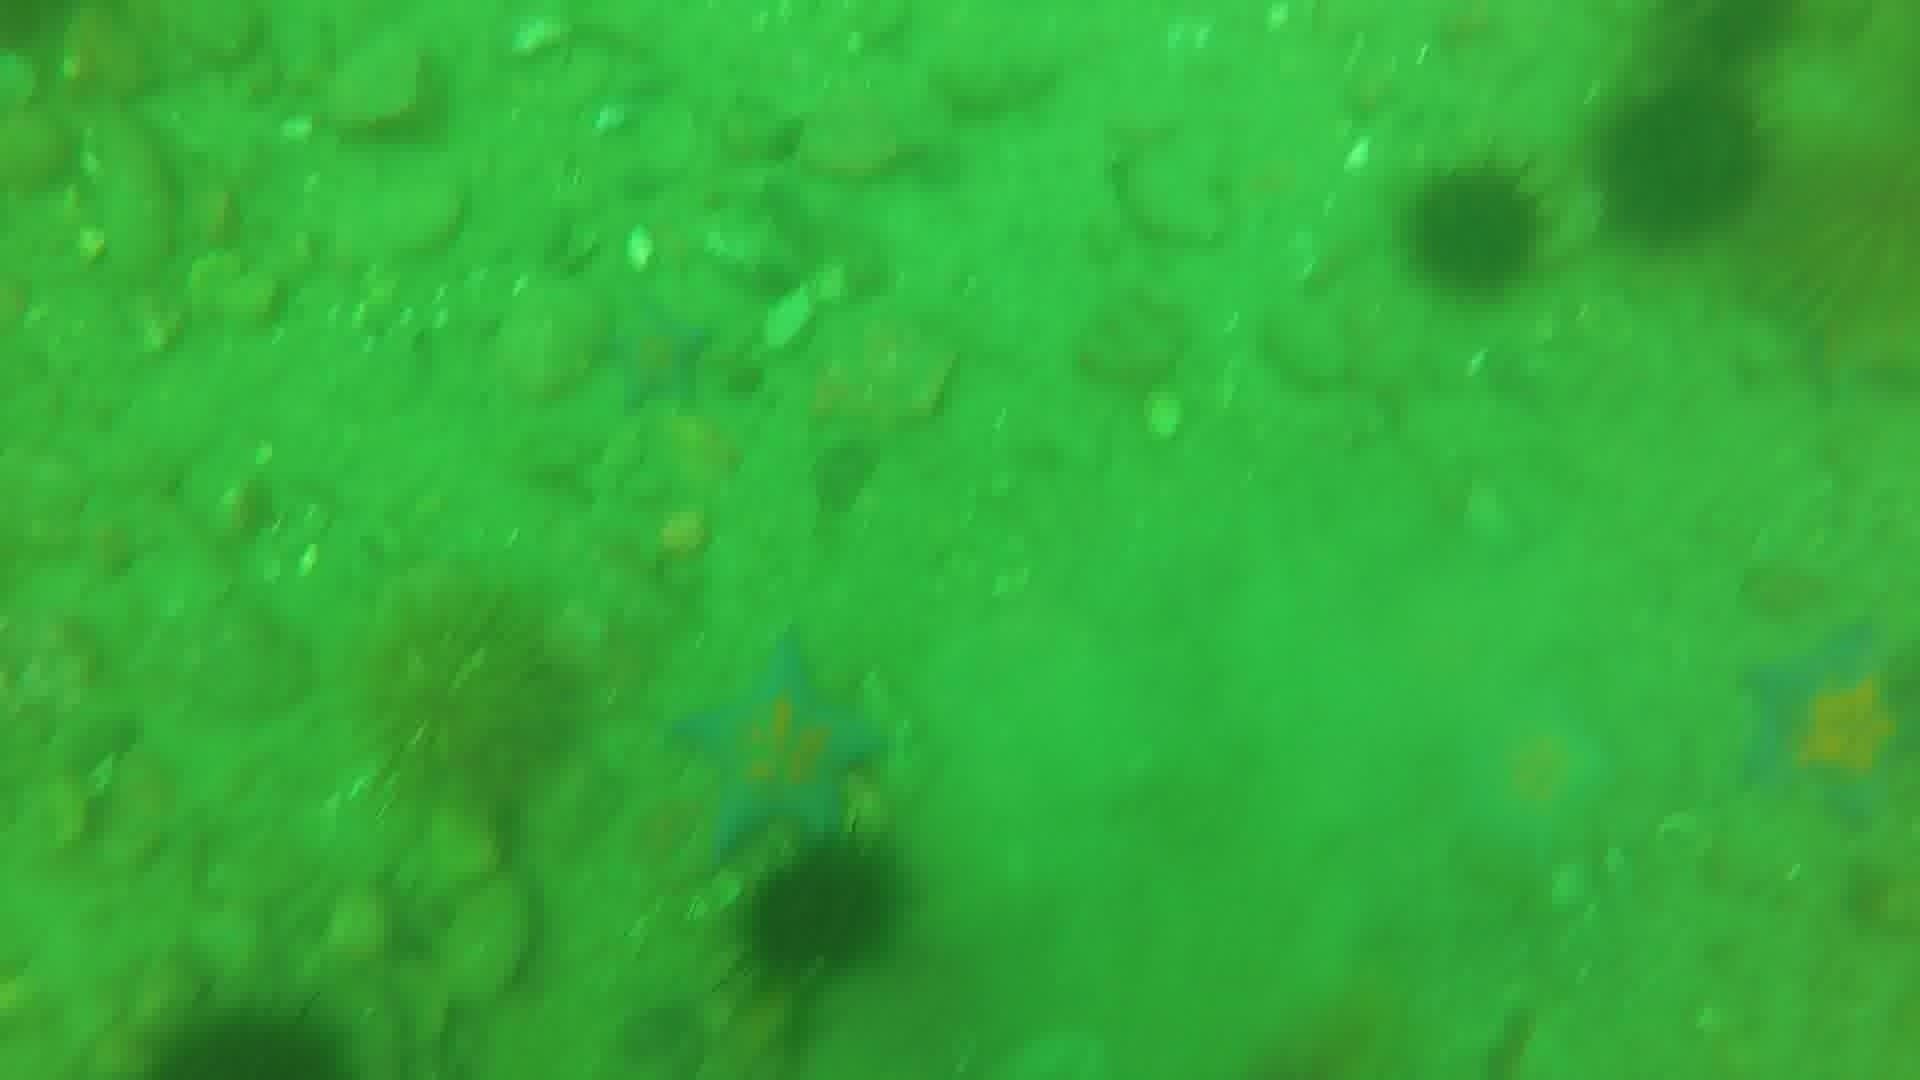echinus: (338, 580, 585, 822), (1737, 140, 1917, 409), (1592, 79, 1772, 249), (737, 828, 909, 984), (1400, 161, 1548, 299), (140, 994, 356, 1080), (1630, 3, 1807, 78)
starfish: (665, 633, 890, 868), (1734, 626, 1915, 832), (1443, 699, 1621, 873), (596, 294, 717, 415)
